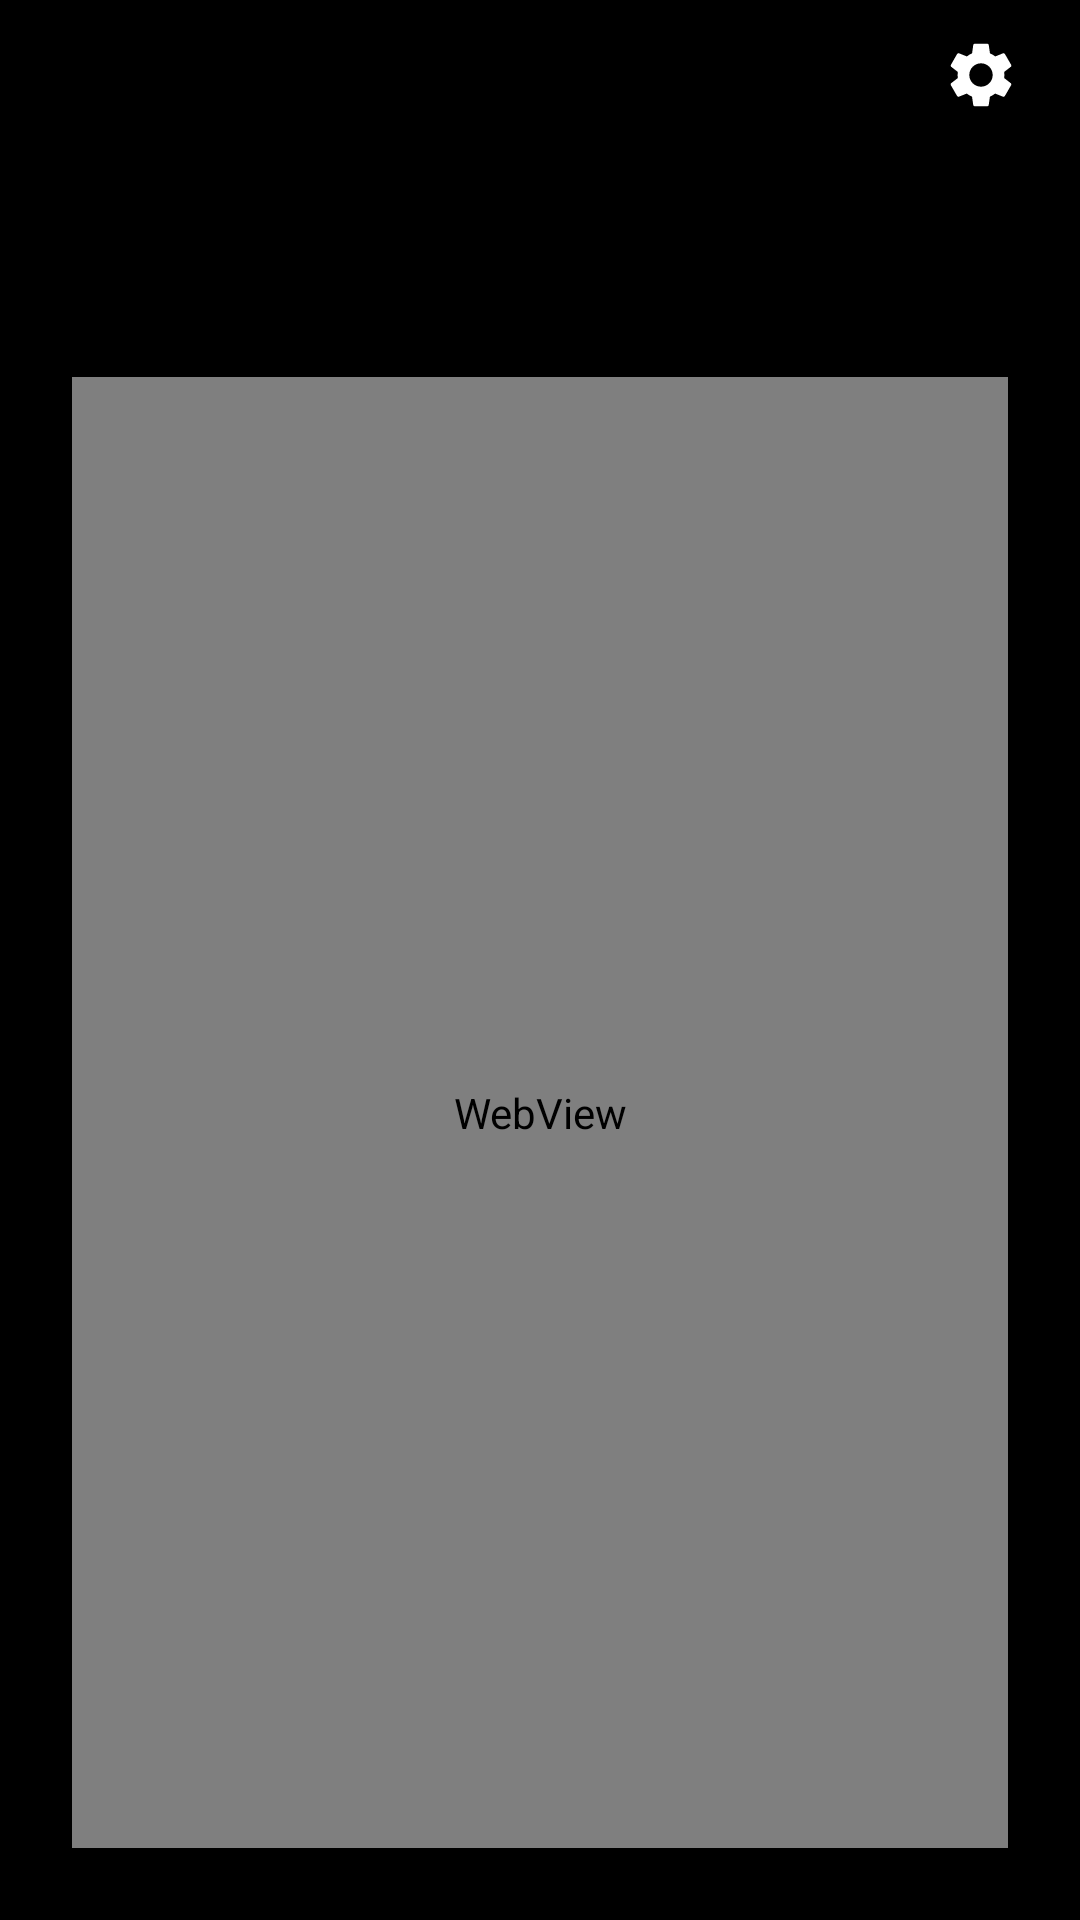

Locate icon controls on the screen. Image size 1080w x 1920h, boxes as (x1, y1, x2, y2).
Settings: (950, 43, 1012, 107)
